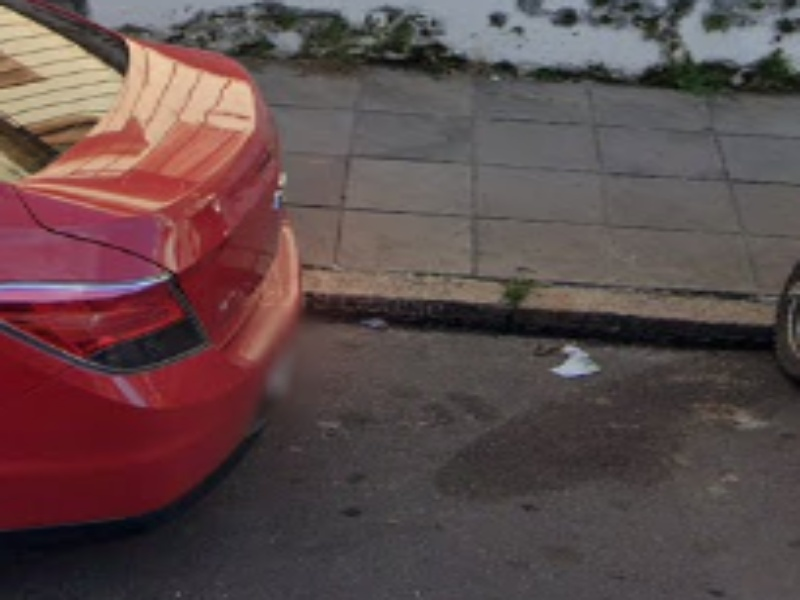v59: (312, 226, 765, 399)
